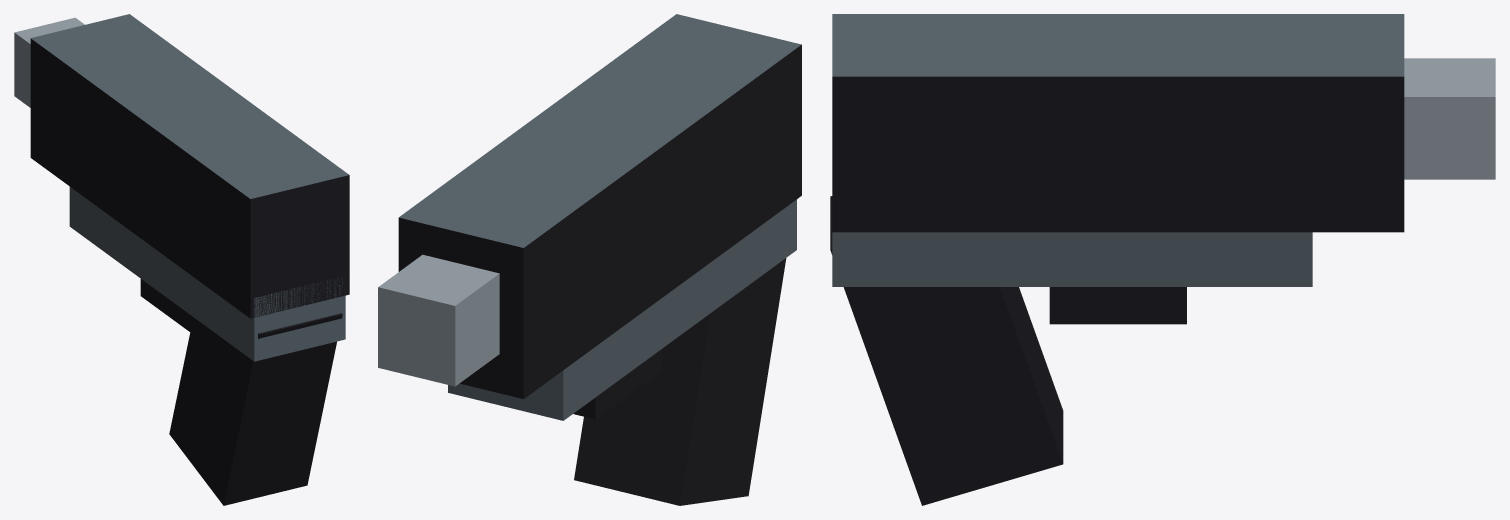
File: wpn_pistol.glb
3 renders of one model, left to right at view 1: azimuth 30°, elevation 25°; view 2: azimuth 150°, elevation 25°; view 3: azimuth 270°, elevation 25°, orthographic. The views are drawn at different scales.
Parts seen in each view (by area): view 1: wpn_pistol; view 2: wpn_pistol; view 3: wpn_pistol.
Boxes of the visible parts, <box> form: wpn_pistol: <box>14,14,349,505</box>; wpn_pistol: <box>378,14,801,505</box>; wpn_pistol: <box>830,14,1495,505</box>.
Size of the model in its own units: 0.1008 by 0.3248 by 0.4515.
1 material, 1 textured.
